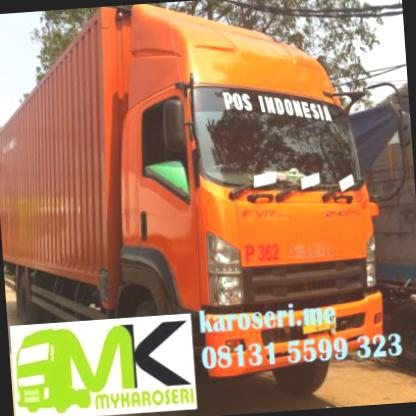truck: (0, 0, 400, 389)
